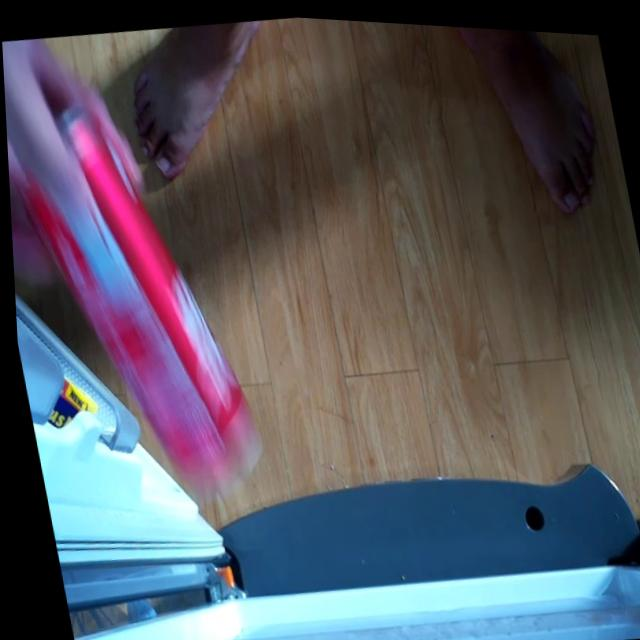coke: (9, 89, 263, 511)
